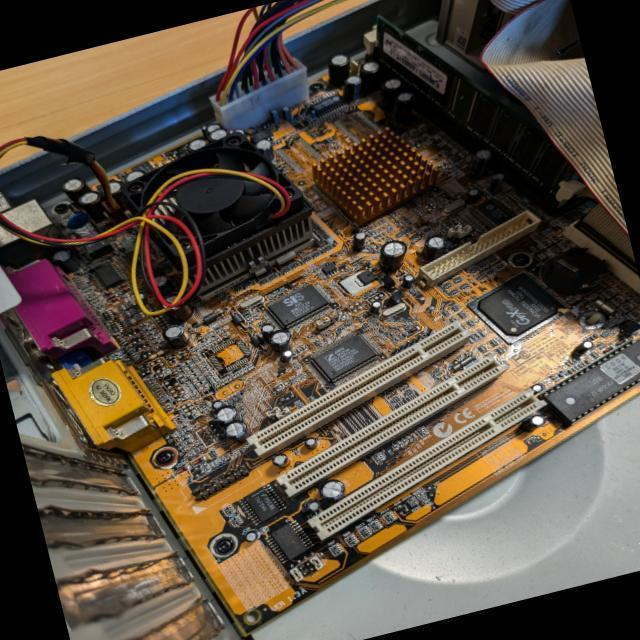CPU_Fan: (0, 0, 640, 640), (106, 116, 328, 311)
RAM: (362, 0, 585, 232)
